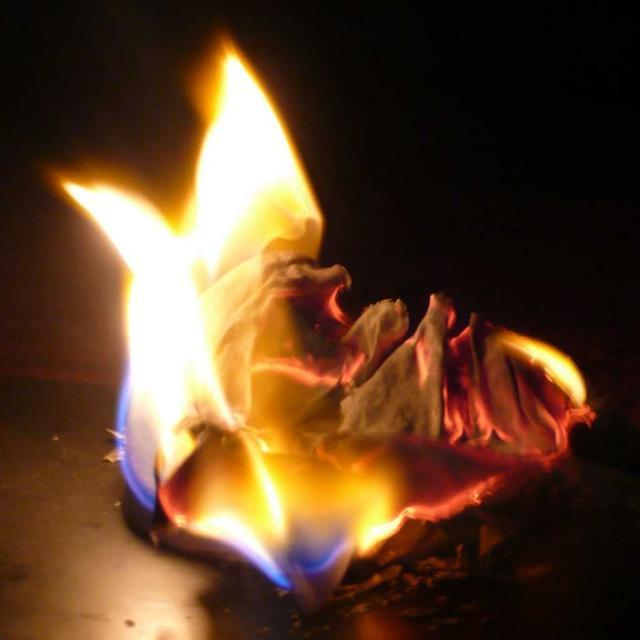Fire: (117, 177, 272, 510)
